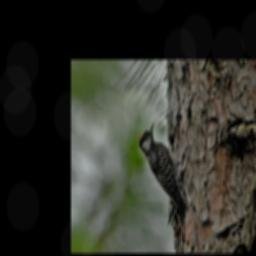Woodpecker: (138, 118, 188, 221)
